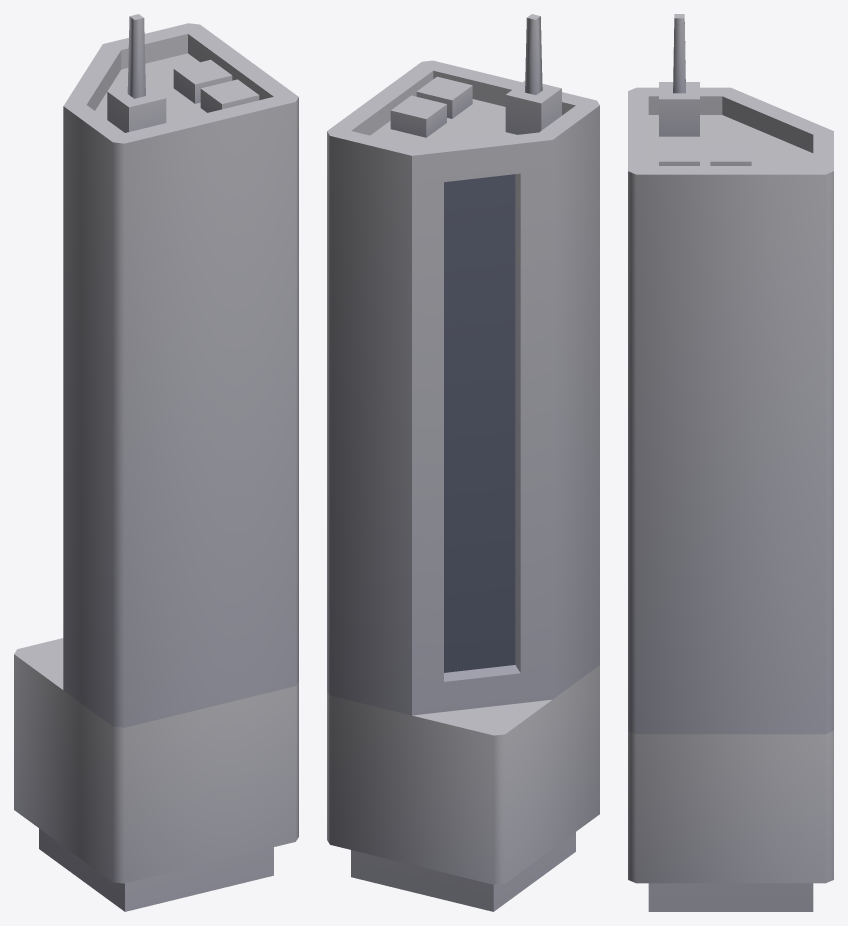
File: low-detail-building-c.glb
3 views of the same model, side by side, from view 1: azimuth 30°, elevation 25°; view 2: azimuth 150°, elevation 25°; view 3: azimuth 270°, elevation 25° (orthographic). The views are drawn at different scales.
Parts seen in each view (by area): view 1: low-detail-building-c; view 2: low-detail-building-c; view 3: low-detail-building-c.
Part boxes in pixels (x1,y1,x2,y2): low-detail-building-c: [14, 14, 298, 911]; low-detail-building-c: [327, 14, 599, 911]; low-detail-building-c: [628, 14, 833, 911].
Size of the model in its own units: 0.5 by 2.25 by 0.5.
